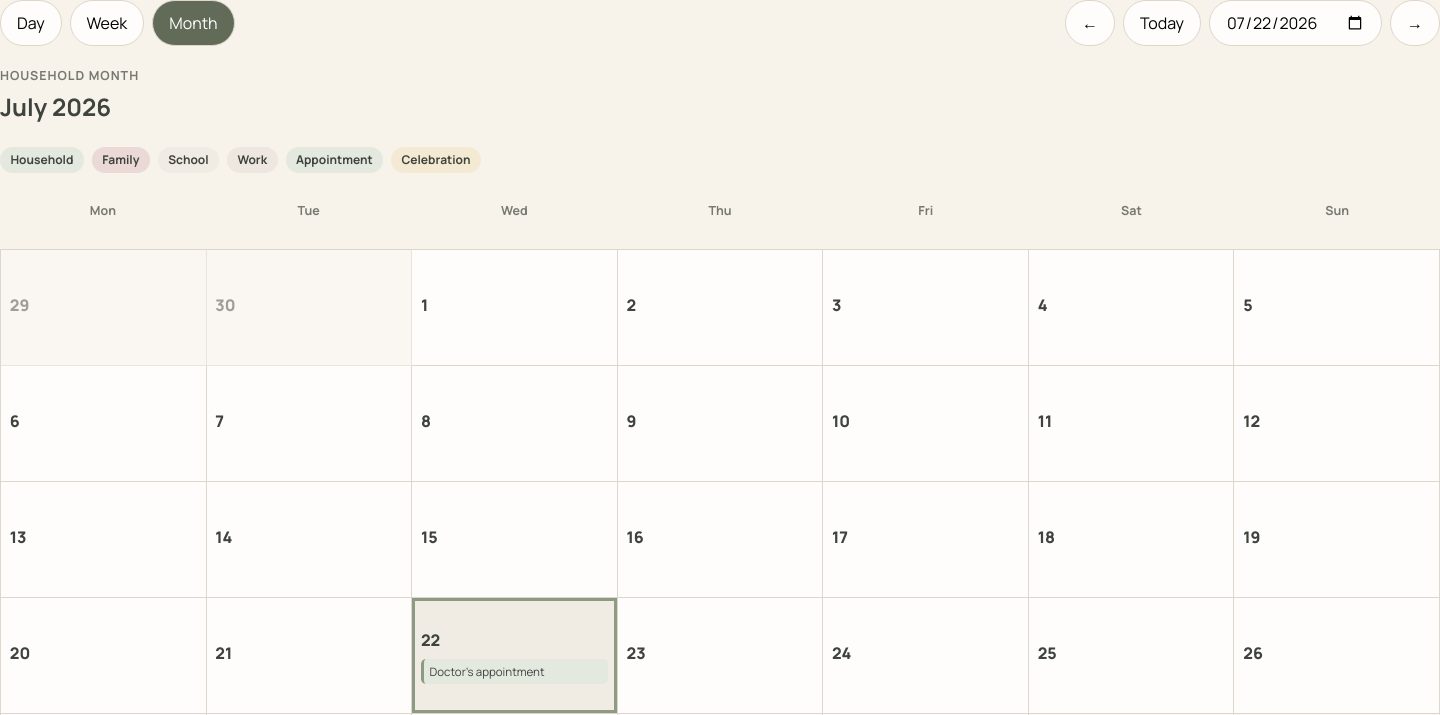
ScheduleView › shows one authoritative event in Month, Week, and Day views
The image size is (1440, 715).
Expected: the text "Doctor's appointment" is shown, left=421, top=660, right=608, bottom=684
Click the button "Week" at (107, 23), box left=70, top=0, right=144, bottom=46
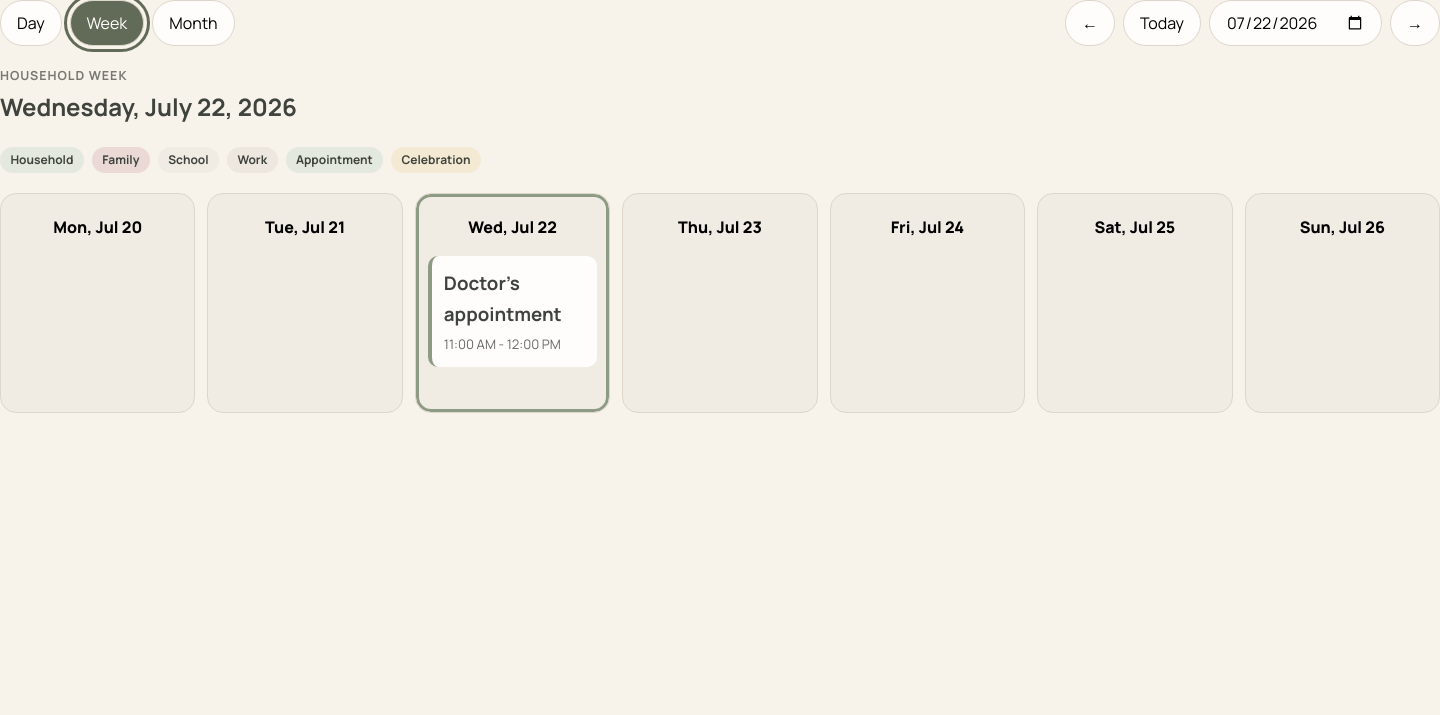
Expected: the heading "Doctor's appointment" is shown, left=444, top=270, right=562, bottom=327
Click the button "Day" at (31, 23), box left=0, top=0, right=62, bottom=46
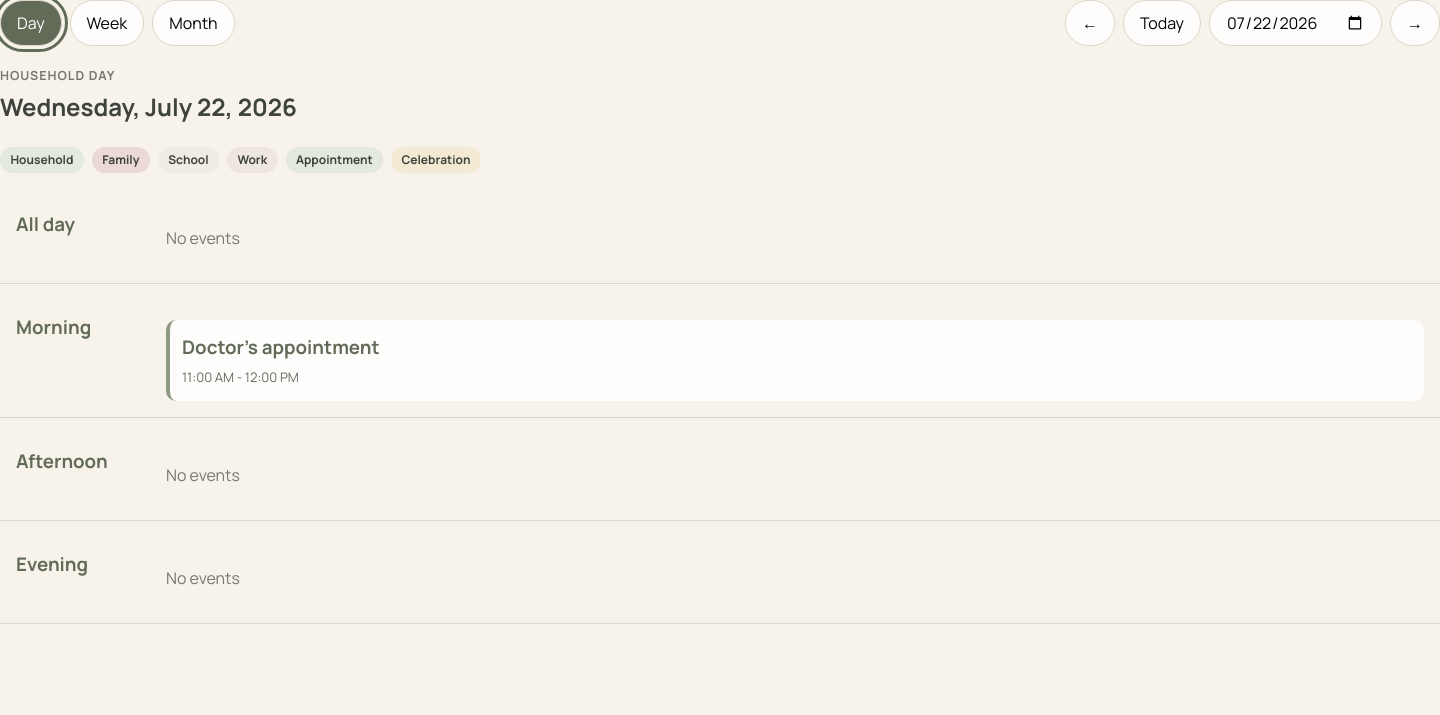
Expected: the heading "Doctor's appointment" is shown, left=182, top=334, right=380, bottom=360
Expected: the heading "Morning" is shown, left=16, top=314, right=91, bottom=340
